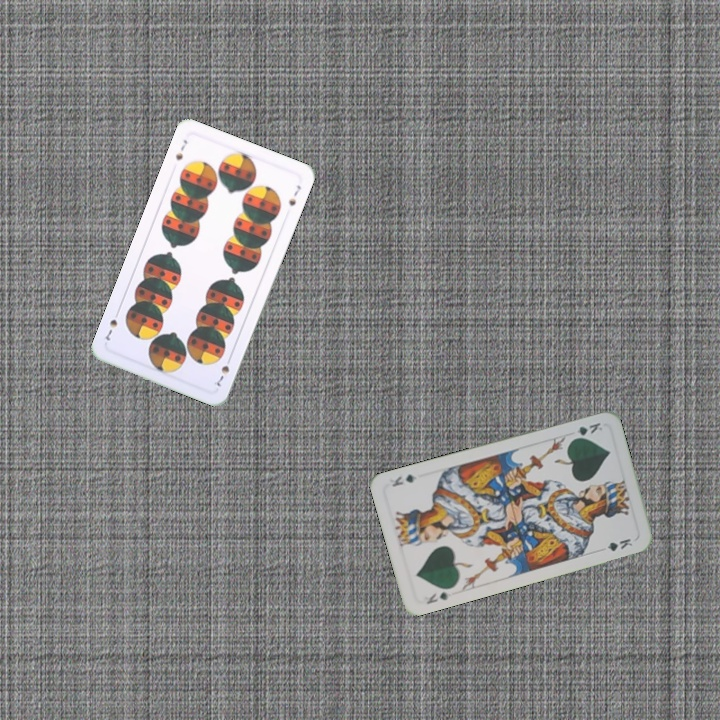GK: (567, 418, 605, 443), (423, 588, 451, 607)
S7: (212, 352, 234, 389), (171, 135, 190, 163)
